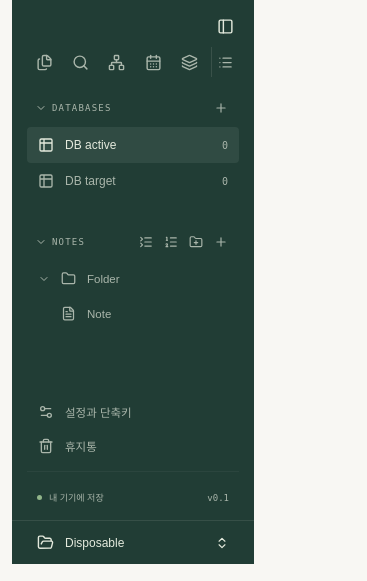
DB action 열기 targets the right-clicked database without first navigating
The image size is (367, 581).
Right-click the button "DB target 0" at (133,181), box [27,163,239,199]
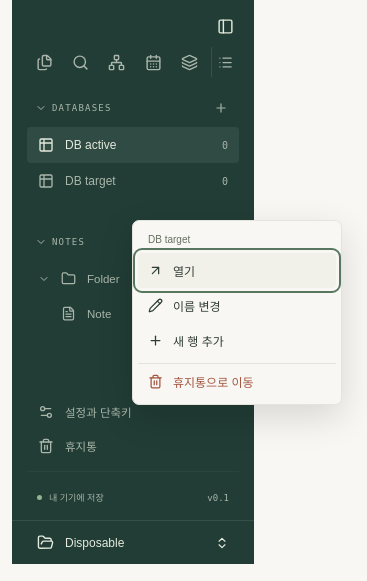
Now the menu item "열기" is shown
Click the menu item "열기" at (237,270), box [138,253,336,288]
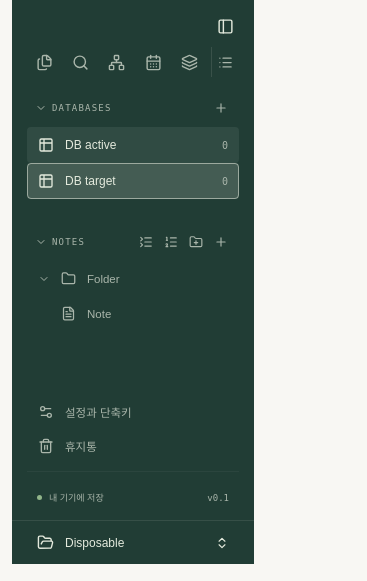
Now the menu is gone
